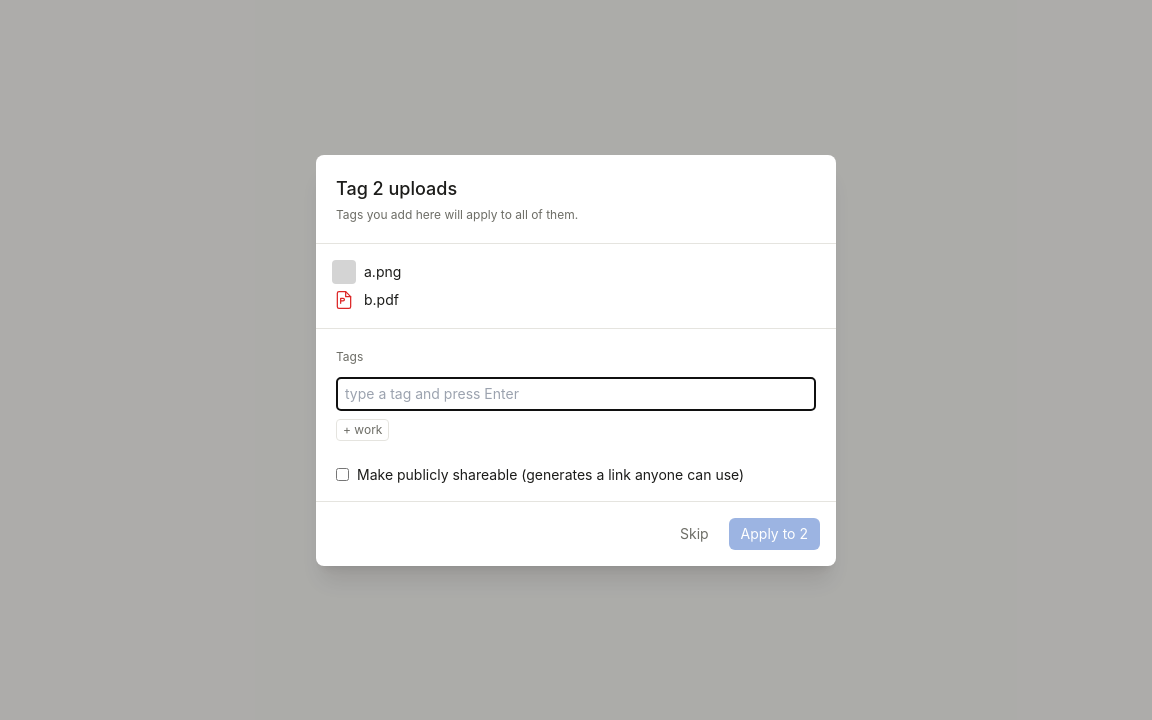
Test case: BulkTagModal › adds a suggested tag when clicked
Click the button "+ work" at (363, 430), box x1=336 y1=418 x2=389 y2=440
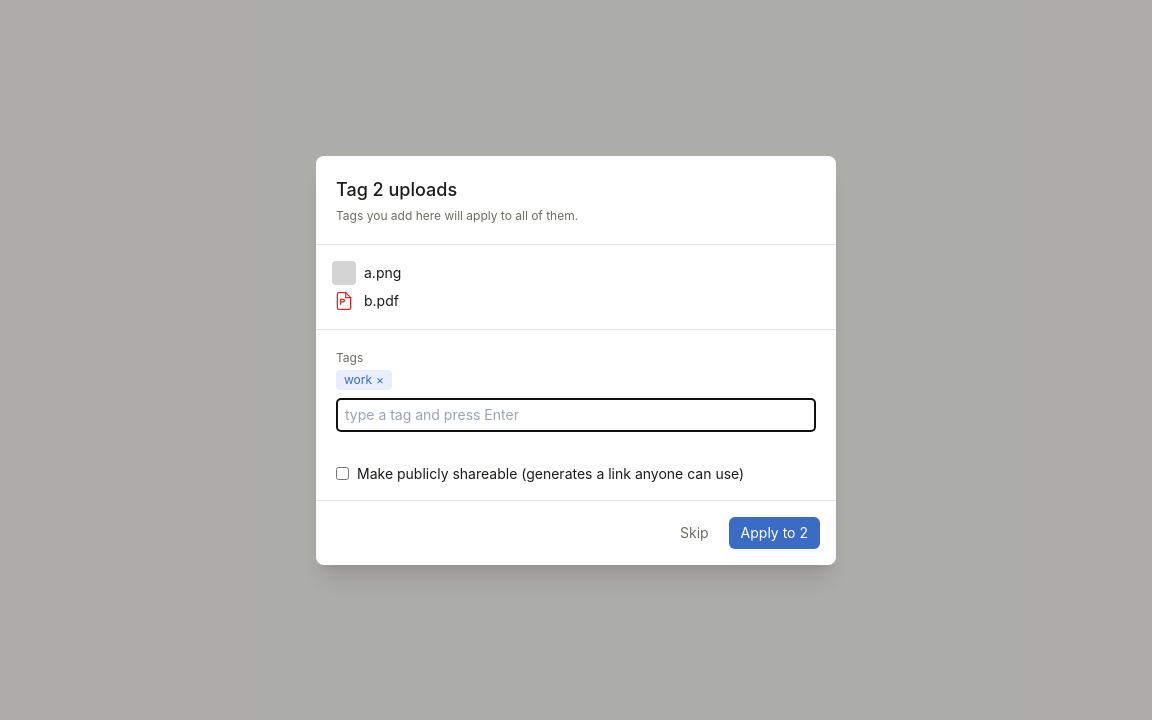
Check: the text "work" is shown, box x1=344 y1=372 x2=372 y2=386
